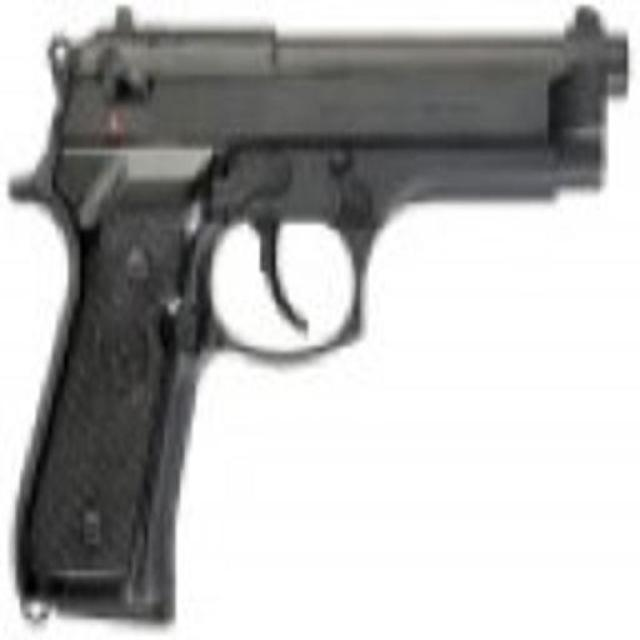pistol: (11, 5, 627, 612)
